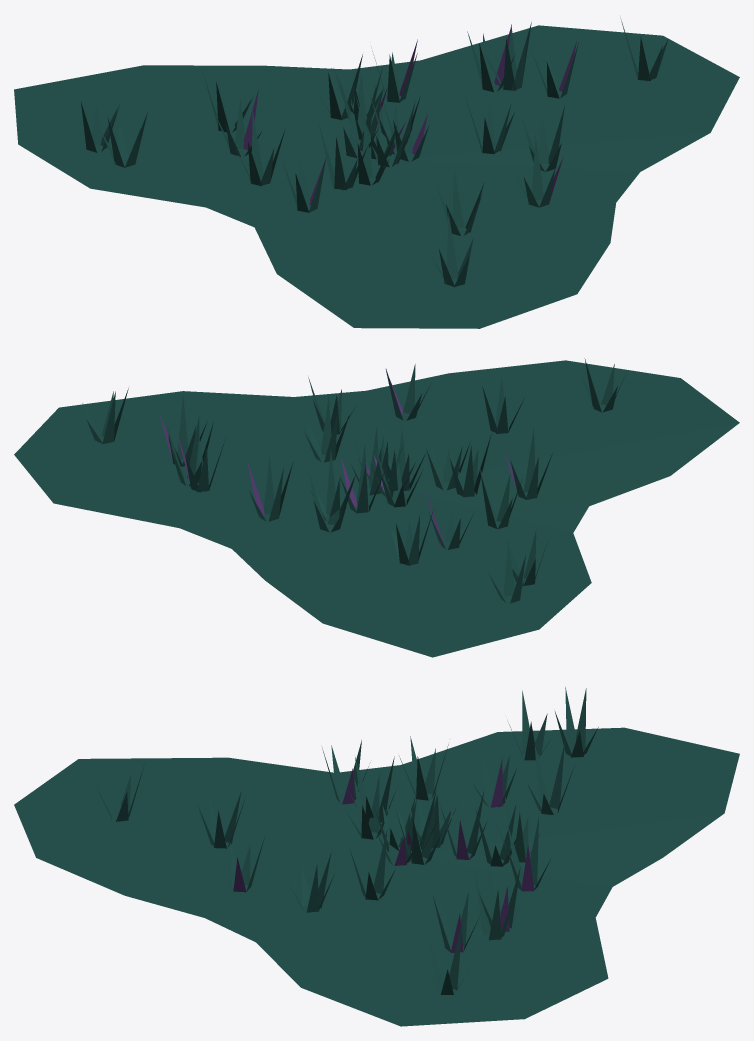
Rendered from Ground_Grass_Patch.fbx.
The picture shows the model from 3 angles, top to bottom: view 1: azimuth 30°, elevation 25°; view 2: azimuth 150°, elevation 25°; view 3: azimuth 270°, elevation 25°; orthographic projection. The views are drawn at different scales.
Visible parts, largest first — view 1: Ground_Grass_Patch_Mesh; view 2: Ground_Grass_Patch_Mesh; view 3: Ground_Grass_Patch_Mesh.
Boxes of the visible parts, x1=… form: Ground_Grass_Patch_Mesh: x1=14, y1=18, x2=739, y2=328; Ground_Grass_Patch_Mesh: x1=14, y1=358, x2=739, y2=657; Ground_Grass_Patch_Mesh: x1=14, y1=687, x2=739, y2=1026.
Bounding box in the file's own units: 2.64 × 0.26 × 2.71.
